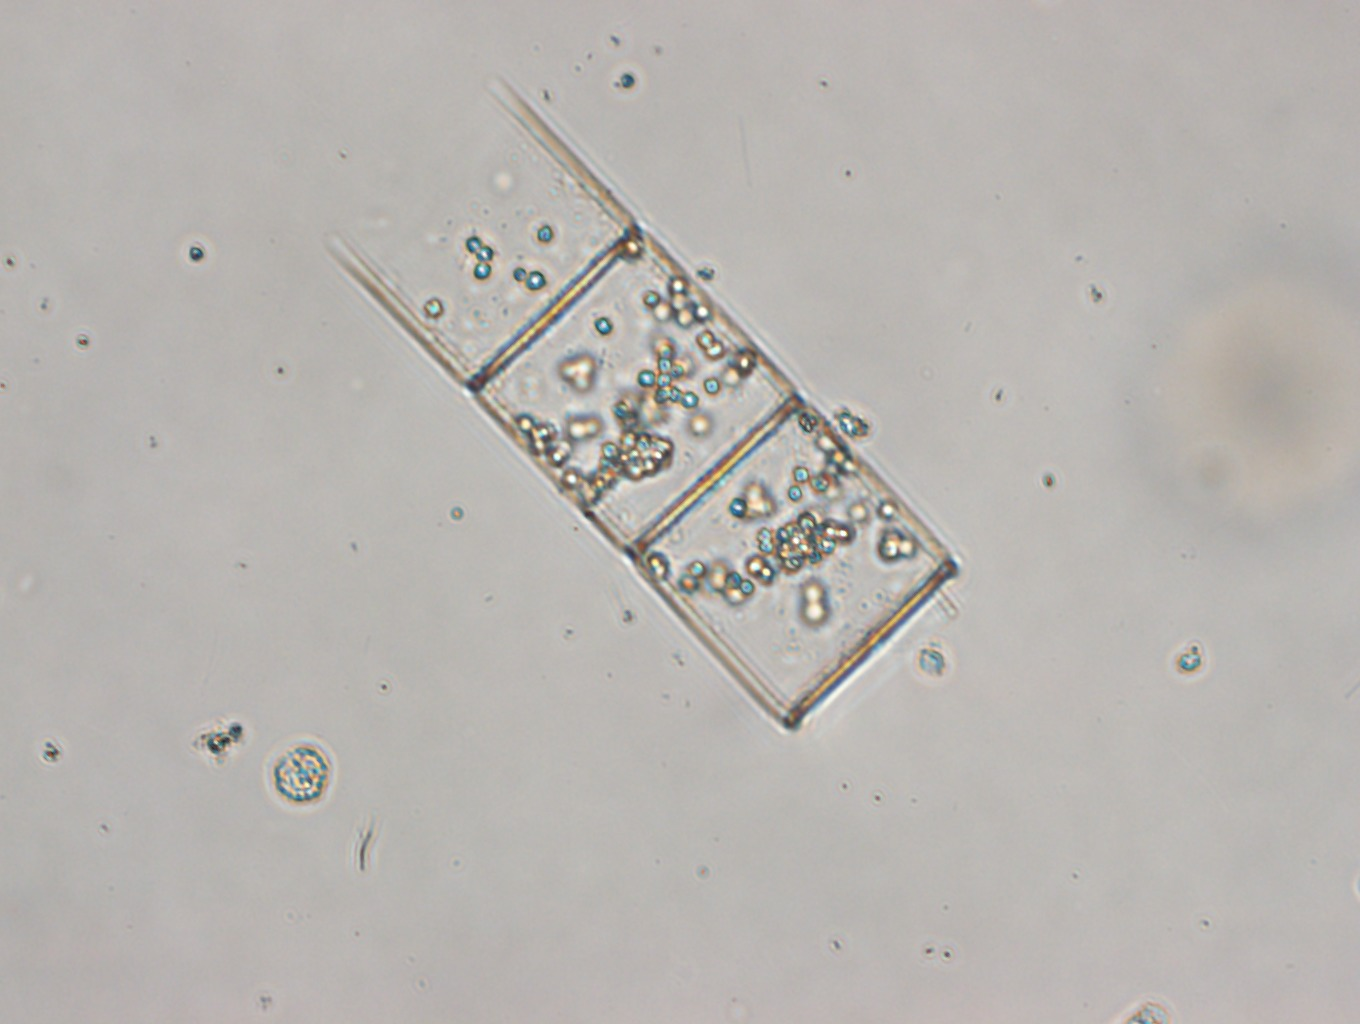guinardia flaccida: (328, 80, 963, 734)
